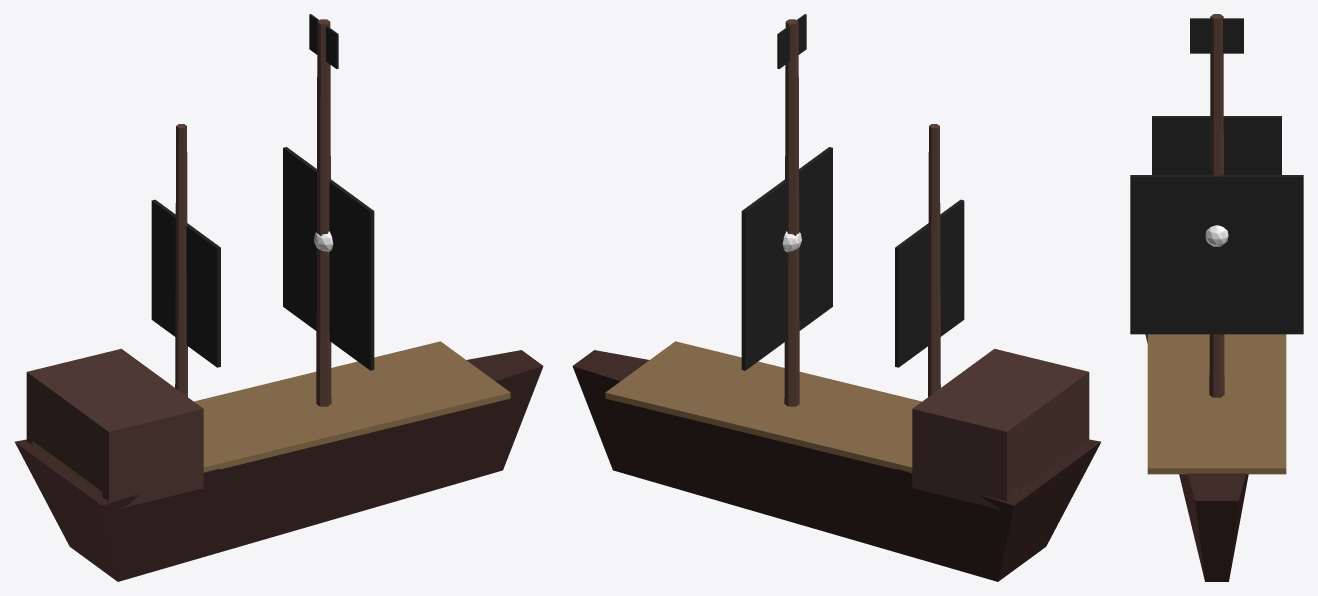
The model's file is pirate.glb.
3 views of the same model, side by side, from view 1: azimuth 30°, elevation 25°; view 2: azimuth 150°, elevation 25°; view 3: azimuth 270°, elevation 25° (orthographic).
Parts seen in each view (by area): view 1: pirate; view 2: pirate; view 3: pirate.
Boxes of the visible parts, bbox=[...] form: pirate: bbox=[15, 14, 543, 581]; pirate: bbox=[572, 14, 1100, 581]; pirate: bbox=[1130, 14, 1303, 581].
Bounding box in the file's own units: 5 × 4.9 × 1.6.
